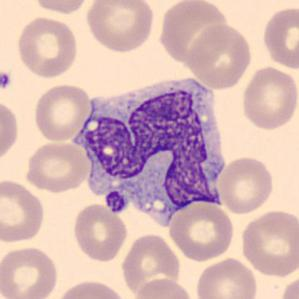Monocyte: (66, 71, 231, 223)
Platelets: (103, 189, 130, 214), (0, 70, 13, 92)
RBC: (156, 0, 229, 67), (186, 21, 254, 90), (167, 198, 236, 263), (14, 14, 80, 79), (118, 231, 182, 298), (238, 208, 298, 278), (238, 64, 298, 132), (84, 0, 156, 54), (215, 154, 276, 216), (23, 139, 91, 194), (32, 82, 93, 143), (70, 202, 128, 262), (0, 244, 61, 299), (0, 177, 47, 245), (194, 256, 260, 299), (260, 4, 299, 71), (54, 277, 128, 299), (129, 275, 193, 299), (0, 96, 21, 164), (30, 0, 91, 15), (278, 272, 298, 299)
